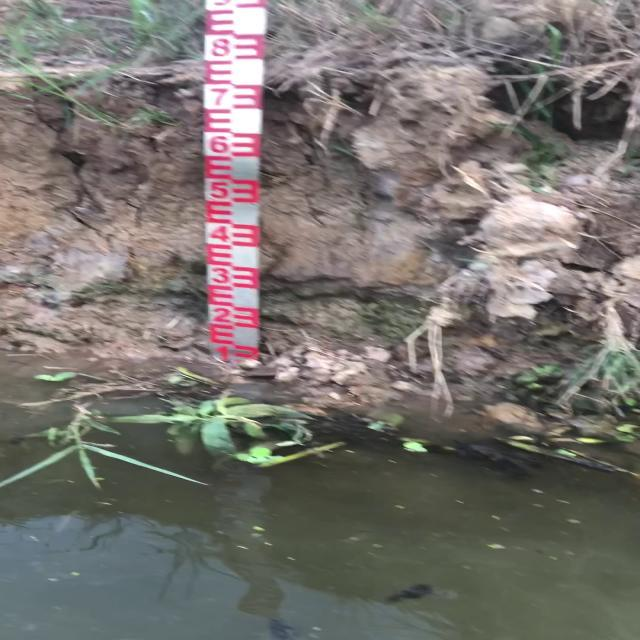ruler: (184, 0, 294, 385)
value: (203, 32, 235, 64), (202, 84, 235, 112), (202, 130, 232, 159), (203, 175, 232, 203), (203, 220, 232, 246), (207, 303, 235, 329), (205, 263, 232, 289), (210, 342, 233, 369)
